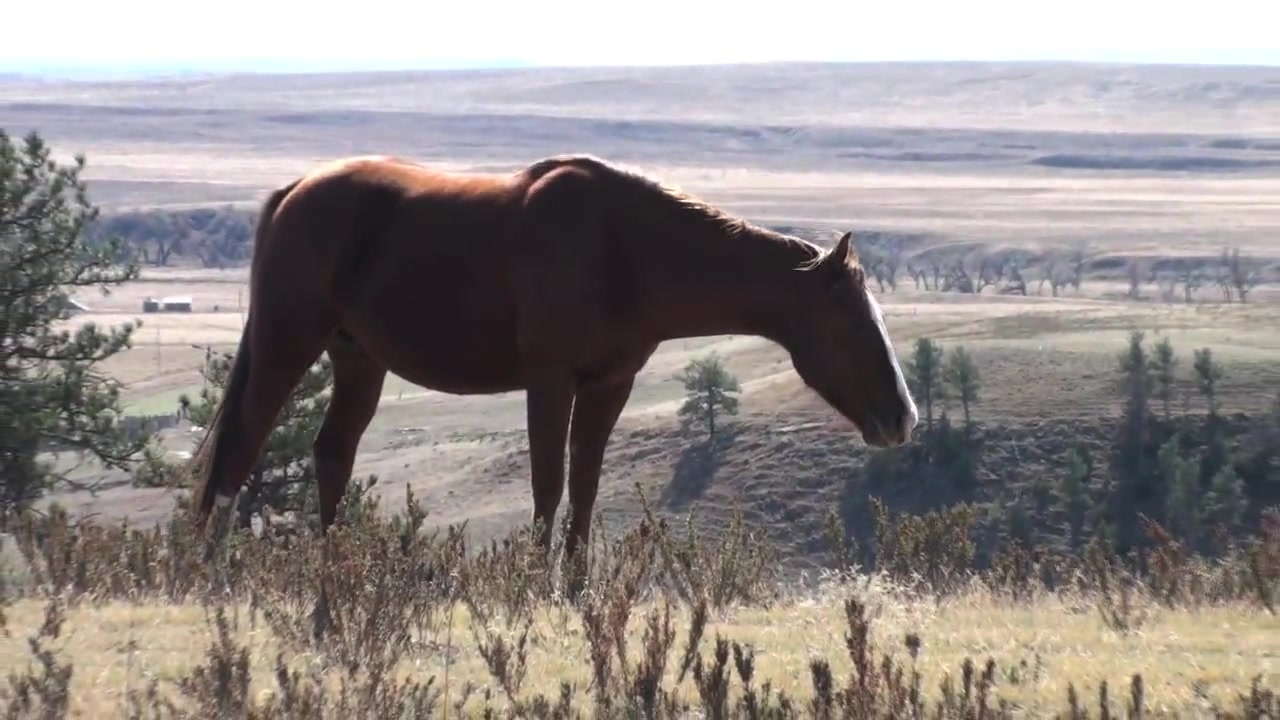horse: (195, 152, 921, 587)
